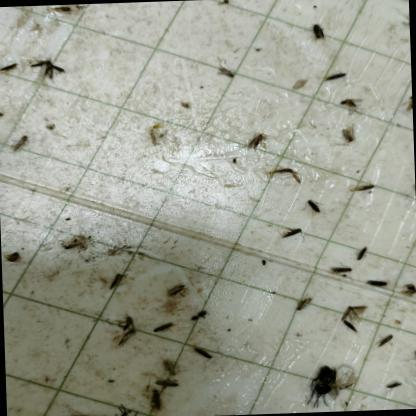prays_oleae: (29, 42, 65, 84), (178, 300, 214, 337), (340, 74, 367, 112), (217, 54, 239, 96), (5, 128, 30, 161), (336, 116, 357, 154), (119, 310, 140, 346), (144, 384, 166, 416), (280, 222, 304, 251), (351, 176, 379, 200), (3, 244, 25, 274), (308, 16, 327, 49), (192, 340, 214, 368), (341, 300, 369, 322), (367, 274, 394, 296), (164, 274, 185, 302), (324, 68, 348, 92), (0, 59, 23, 84), (340, 317, 360, 344), (152, 316, 175, 339), (375, 332, 397, 356), (331, 262, 354, 284), (295, 290, 310, 322), (159, 356, 178, 380), (399, 278, 416, 303), (250, 132, 269, 154), (386, 372, 404, 395), (305, 192, 320, 218), (355, 243, 371, 267), (402, 88, 413, 120), (157, 374, 181, 388), (272, 165, 294, 180), (107, 274, 125, 292), (402, 6, 410, 40), (410, 336, 416, 370), (0, 99, 7, 123), (410, 175, 416, 202)
